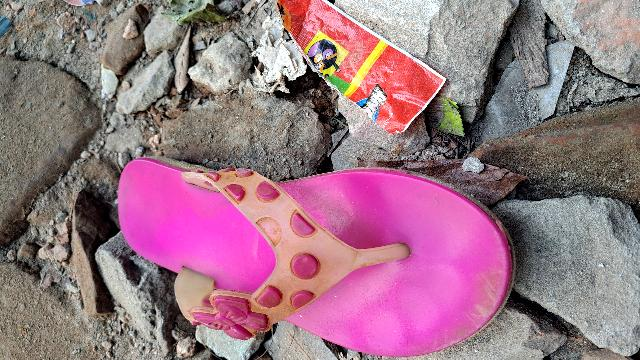sandal: (99, 152, 538, 360)
